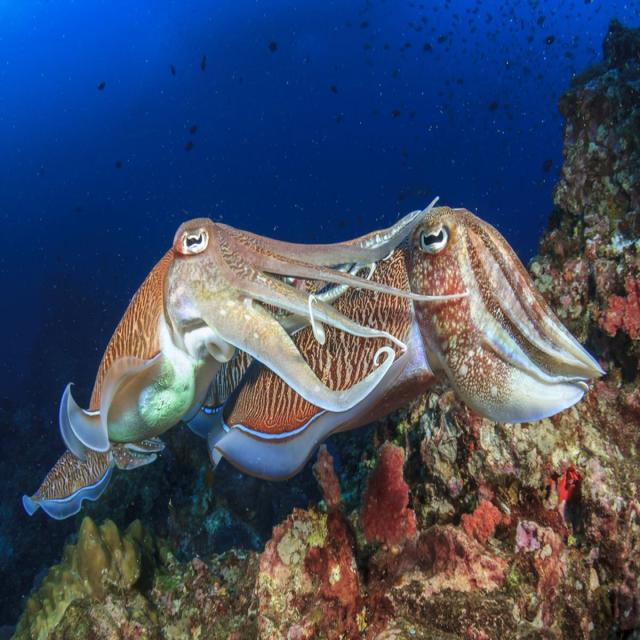SQUID: (205, 178, 615, 539), (12, 197, 333, 526)
